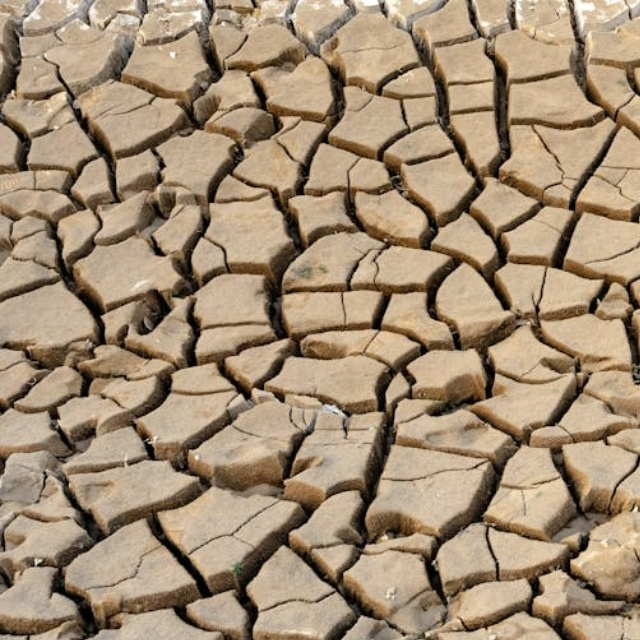网状裂隙: (0, 0, 640, 640), (156, 218, 640, 640), (312, 3, 640, 213), (0, 489, 409, 640)
